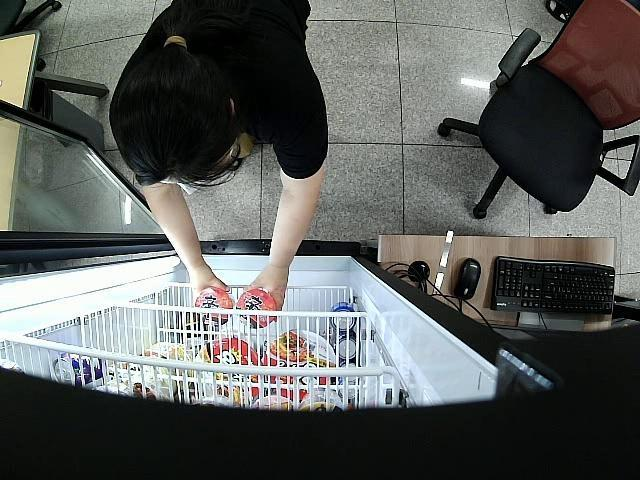02_shinRamen_S: (193, 288, 232, 328), (237, 288, 274, 328)
